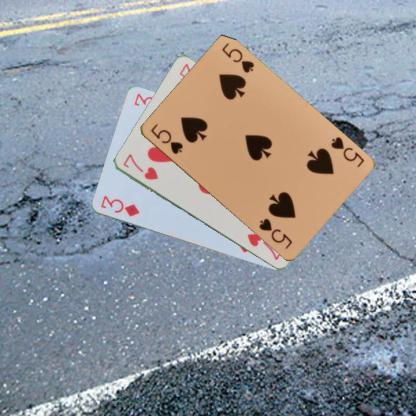3d: (98, 193, 140, 218)
5s: (328, 134, 366, 169), (147, 121, 184, 156)
7h: (120, 152, 160, 182)
